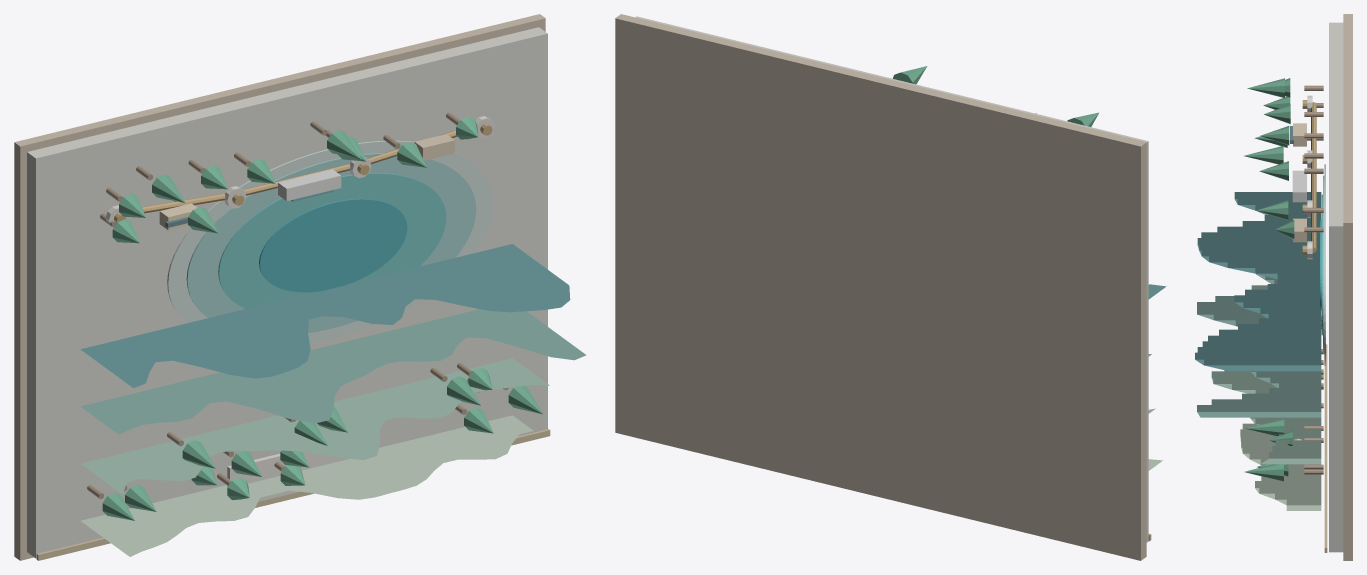
The model's file is summer.glb.
The picture shows the model from 3 angles, left to right: view 1: azimuth 30°, elevation 25°; view 2: azimuth 150°, elevation 25°; view 3: azimuth 270°, elevation 25°; orthographic projection. The views are drawn at different scales.
Parts seen in each view (by area): view 1: part_000, part_009, part_008, part_006, part_007, part_001, part_004, part_005, part_003, part_002, part_075, part_072 (+2 smaller); view 2: part_001, part_000; view 3: part_009, part_000, part_001, part_008, part_007, part_006, part_010, part_072, part_038, part_032, part_014, part_052 (+12 smaller).
Part boxes in pixels (box(x1,y1,x2,y2)): part_000: box(27, 27, 547, 558); part_009: box(81, 244, 570, 388); part_008: box(80, 309, 586, 434); part_006: box(80, 415, 533, 556); part_007: box(81, 358, 549, 494); part_001: box(14, 14, 545, 560); part_004: box(218, 173, 446, 308); part_005: box(259, 198, 407, 292); part_003: box(186, 153, 476, 332); part_002: box(167, 140, 493, 342); part_075: box(227, 452, 349, 501); part_072: box(278, 169, 341, 201); part_001: box(615, 14, 1146, 560); part_000: box(635, 16, 1148, 542); part_009: box(1195, 192, 1321, 371); part_000: box(1329, 22, 1343, 552); part_001: box(1343, 14, 1352, 560); part_008: box(1197, 274, 1321, 417); part_007: box(1211, 285, 1321, 464); part_006: box(1240, 423, 1321, 510); part_010: box(1324, 344, 1327, 552); part_072: box(1292, 170, 1306, 202); part_038: box(1244, 146, 1283, 164); part_032: box(1245, 418, 1284, 436); part_014: box(1244, 464, 1283, 481); part_052: box(1247, 78, 1284, 98).
Size of the model in its own units: 2.31 by 1.74 by 0.7371.
